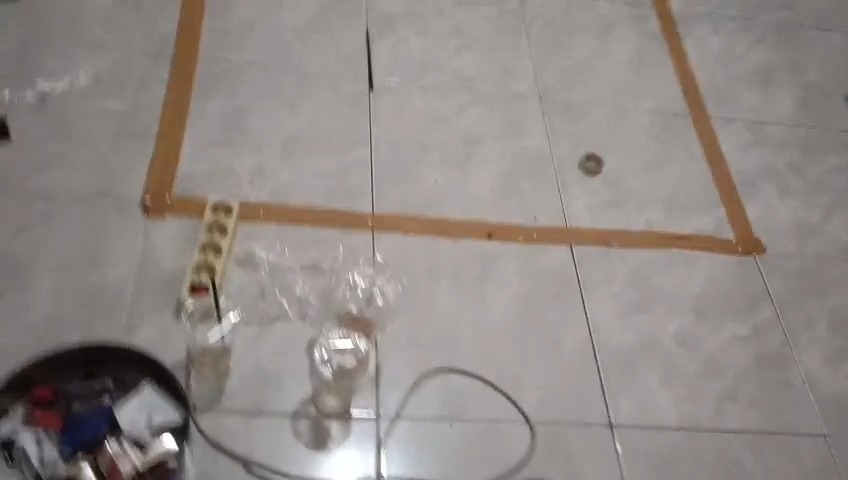floor marking: (237, 0, 765, 255), (142, 0, 209, 217)
